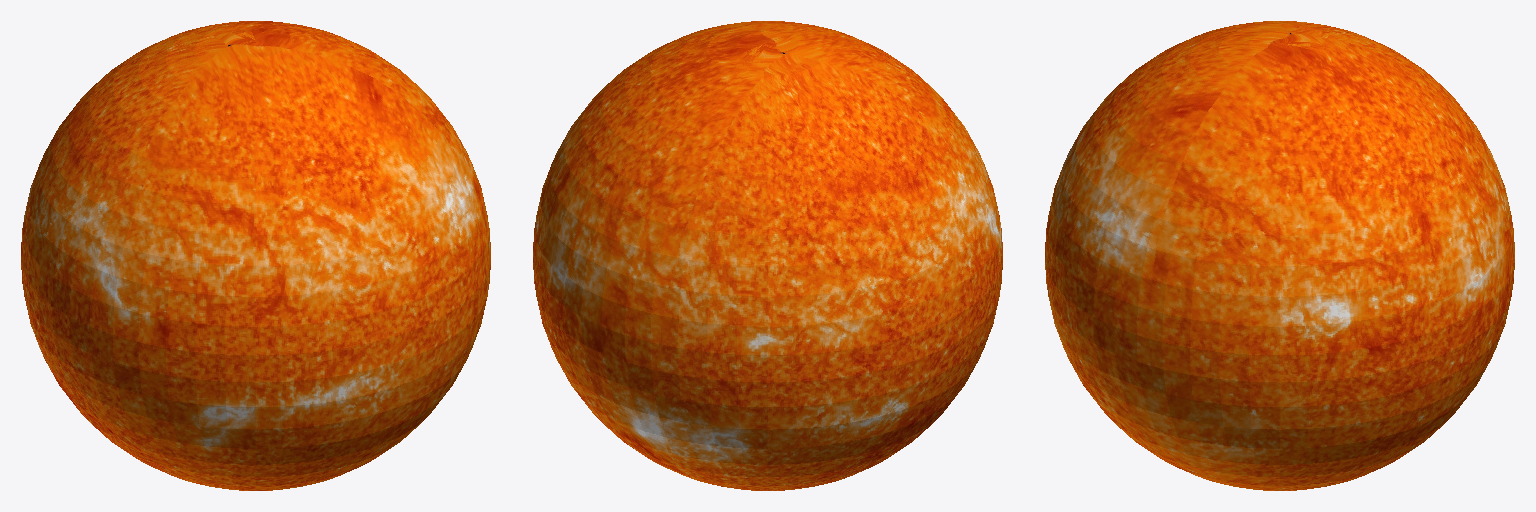
3 views of the same model, side by side, from view 1: azimuth 30°, elevation 25°; view 2: azimuth 150°, elevation 25°; view 3: azimuth 270°, elevation 25° (orthographic).
Parts seen in each view (by area): view 1: Sun_ID4; view 2: Sun_ID4; view 3: Sun_ID4.
Boxes of the visible parts, x1,y1,x2,y2 form: Sun_ID4: [21, 21, 490, 490]; Sun_ID4: [533, 21, 1002, 490]; Sun_ID4: [1045, 21, 1514, 490].
Bounding box in the file's own units: 139 × 139 × 139.
1 materials, 1 textured.